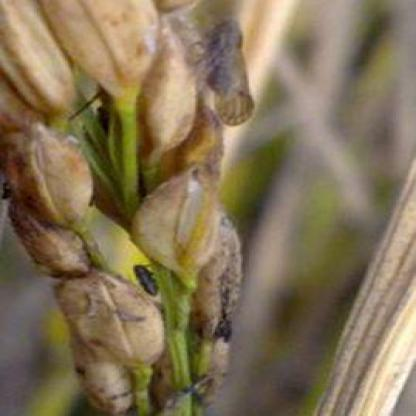brown-planthopper: (194, 12, 262, 129)
